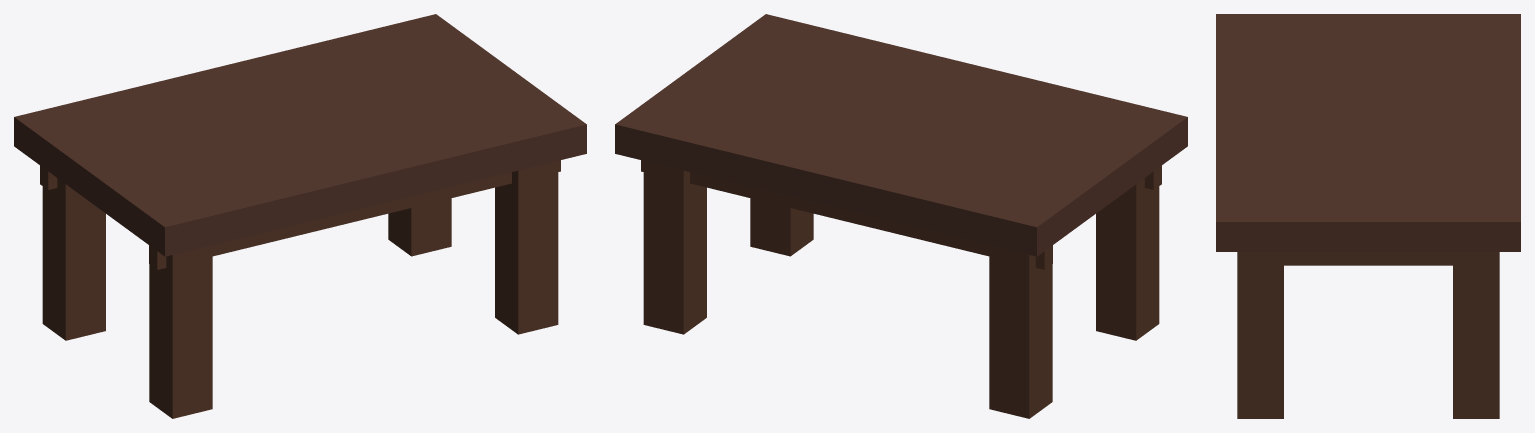
File: Table_3B.fbx
The picture shows the model from 3 angles, left to right: view 1: azimuth 30°, elevation 25°; view 2: azimuth 150°, elevation 25°; view 3: azimuth 270°, elevation 25°; orthographic projection.
Parts seen in each view (by area): view 1: polySurface1732; view 2: polySurface1732; view 3: polySurface1732.
Boxes of the visible parts, x1=… form: polySurface1732: x1=14, y1=14, x2=586, y2=418; polySurface1732: x1=615, y1=14, x2=1187, y2=418; polySurface1732: x1=1216, y1=14, x2=1520, y2=418.
Bounding box in the file's own units: 1.05 × 0.4843 × 0.65.
Materials: 1 (1 with a texture image).
